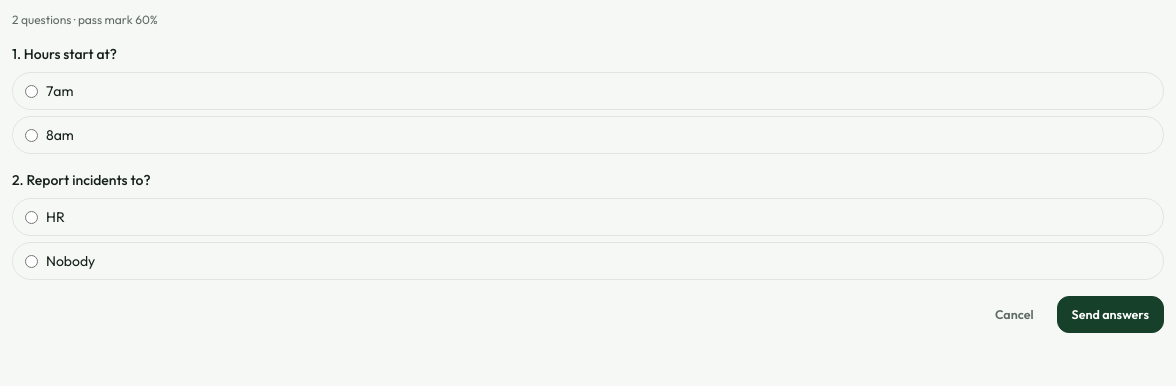
Scenario: QuizTaker › needs every question answered, then sends the chosen indexes and shows the score
The image size is (1176, 386).
Click the radio button labelled "8am": (32, 135) [25, 128, 38, 142]
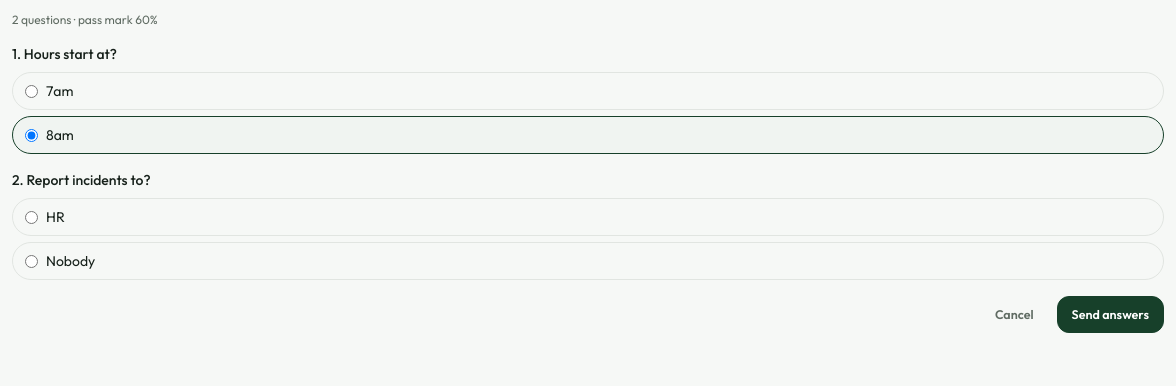
Click the button "Send answers": (1110, 314) [1057, 296, 1164, 333]
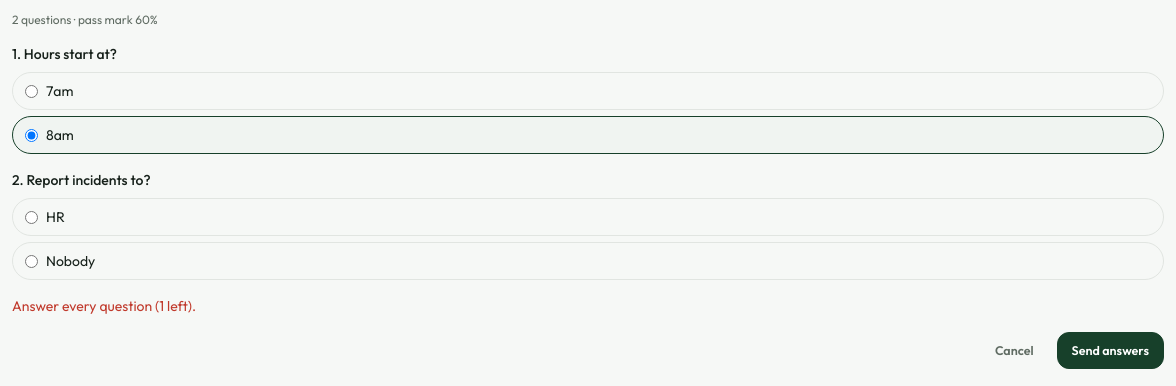
Expected: the message shows "1 left", [12, 297, 196, 315]
Click the radio button labelled "Nobody": (32, 261) [25, 254, 38, 268]
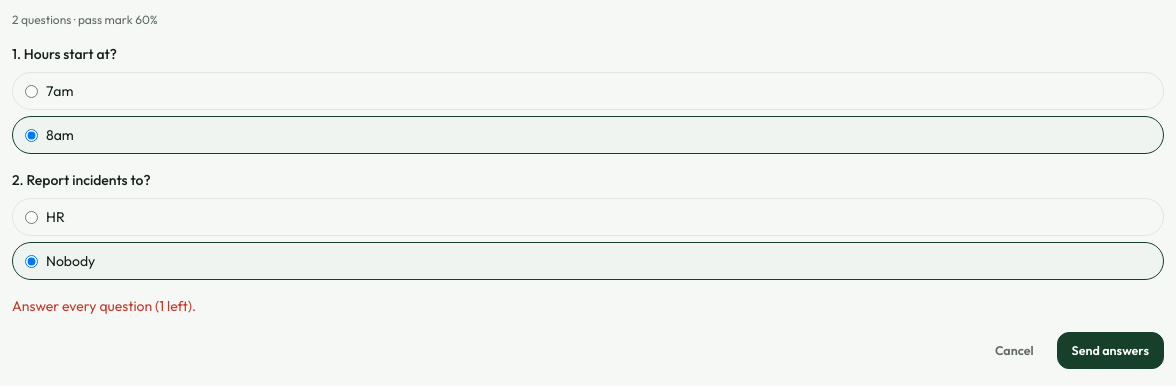
Click the button "Send answers": (1110, 350) [1057, 332, 1164, 369]
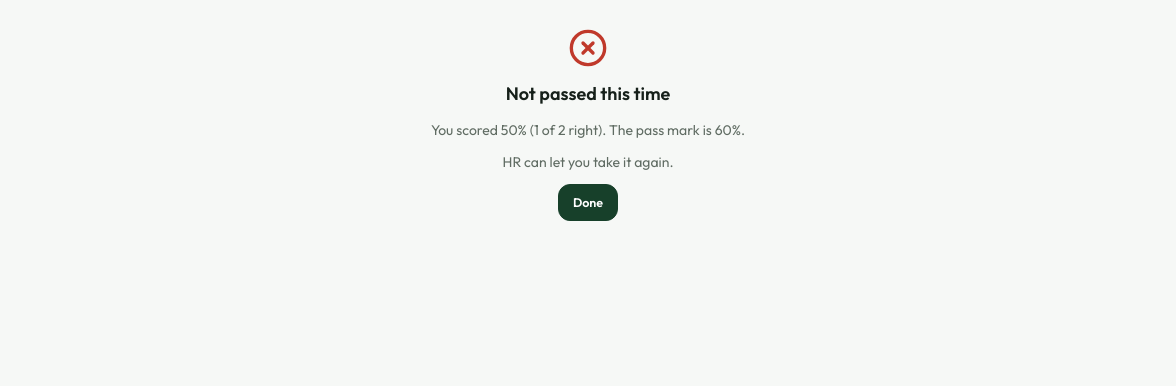
Expected: the text "Not passed this time" is shown, [506, 82, 670, 105]
Expected: the text "You scored 50% (1 of 2 right). The pass mark is 60%." is shown, [431, 121, 745, 139]
